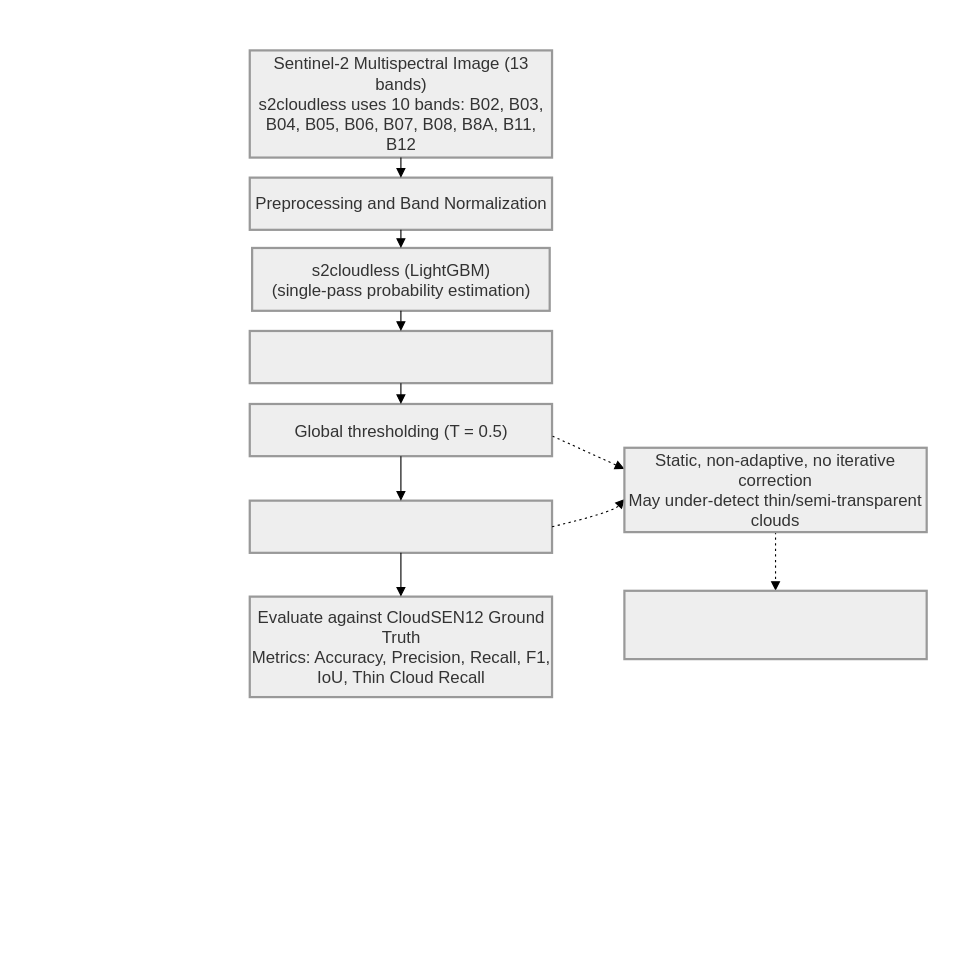
Image size: 956x979. Some labels were removed from this diagram. The shapes that lost their labels are listed below. From the top down, each one's box as (x1, y1, x2, y2) in pixels, then its label:
(248, 329, 553, 384): Per-pixel cloud probability map (0–1)
(248, 499, 553, 553): Binary cloud mask (Cloud / Non-cloud)
(623, 589, 927, 660): Motivation for RL refinement (DQN/PPO) in later framework
